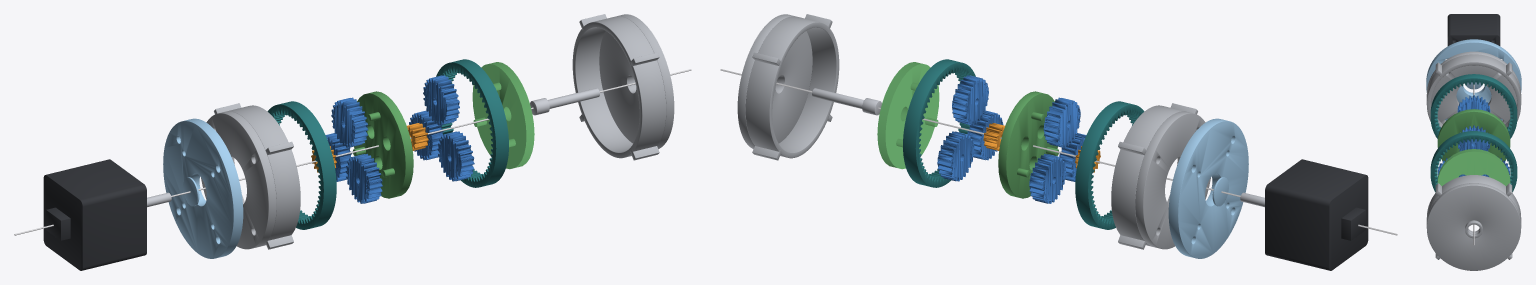
The picture shows the model from 3 angles, left to right: view 1: azimuth 30°, elevation 25°; view 2: azimuth 150°, elevation 25°; view 3: azimuth 270°, elevation 25°; orthographic projection. The views are drawn at different scales.
Parts seen in each view (by area): view 1: Housing_Rear.001, Motor_NEMA17.001, Front_Flange.001, Housing_Front.001, Carrier_1.001, Carrier_2.001, Ring_Gear_2.001, Ring_Gear_1.001, Planet_Gear_2A.001, Planet_Gear_1B.001, Planet_Gear_1A.001, Planet_Gear_2B.001 (+5 smaller); view 2: Housing_Rear.001, Motor_NEMA17.001, Front_Flange.001, Housing_Front.001, Carrier_1.001, Carrier_2.001, Ring_Gear_2.001, Ring_Gear_1.001, Planet_Gear_2A.001, Planet_Gear_1C.001, Planet_Gear_1A.001, Planet_Gear_2C.001 (+5 smaller); view 3: Housing_Rear.001, Housing_Front.001, Carrier_1.001, Front_Flange.001, Carrier_2.001, Motor_NEMA17.001, Ring_Gear_1.001, Ring_Gear_2.001, Planet_Gear_2A.001, Planet_Gear_1A.001.
Part boxes in pixels (<box>): Housing_Rear.001: <box>572,14,674,160</box>; Motor_NEMA17.001: <box>43,159,146,270</box>; Front_Flange.001: <box>163,118,243,258</box>; Housing_Front.001: <box>201,103,300,249</box>; Carrier_1.001: <box>352,91,413,198</box>; Carrier_2.001: <box>472,62,534,169</box>; Ring_Gear_2.001: <box>436,59,508,187</box>; Ring_Gear_1.001: <box>267,101,336,229</box>; Planet_Gear_2A.001: <box>423,75,459,125</box>; Planet_Gear_1B.001: <box>345,153,382,203</box>; Planet_Gear_1A.001: <box>331,97,368,147</box>; Planet_Gear_2B.001: <box>437,131,474,181</box>; Housing_Rear.001: <box>737,14,839,160</box>; Motor_NEMA17.001: <box>1265,159,1368,270</box>; Front_Flange.001: <box>1168,118,1248,258</box>; Housing_Front.001: <box>1111,103,1210,249</box>; Carrier_1.001: <box>998,91,1058,198</box>; Carrier_2.001: <box>877,62,939,169</box>; Ring_Gear_2.001: <box>903,59,975,187</box>; Ring_Gear_1.001: <box>1075,101,1144,229</box>; Planet_Gear_2A.001: <box>952,75,988,125</box>; Planet_Gear_1C.001: <box>1029,153,1066,203</box>; Planet_Gear_1A.001: <box>1043,97,1080,147</box>; Planet_Gear_2C.001: <box>937,131,974,181</box>; Housing_Rear.001: <box>1426,175,1521,270</box>; Housing_Front.001: <box>1426,51,1521,136</box>; Carrier_1.001: <box>1437,109,1510,161</box>; Front_Flange.001: <box>1426,39,1521,120</box>; Carrier_2.001: <box>1437,149,1510,185</box>; Motor_NEMA17.001: <box>1447,14,1500,45</box>; Ring_Gear_1.001: <box>1430,74,1517,138</box>; Ring_Gear_2.001: <box>1430,131,1517,192</box>; Planet_Gear_2A.001: <box>1457,125,1490,151</box>; Planet_Gear_1A.001: <box>1457,95,1490,112</box>.
Bounding box in the file's own units: 420 × 76 × 76.
